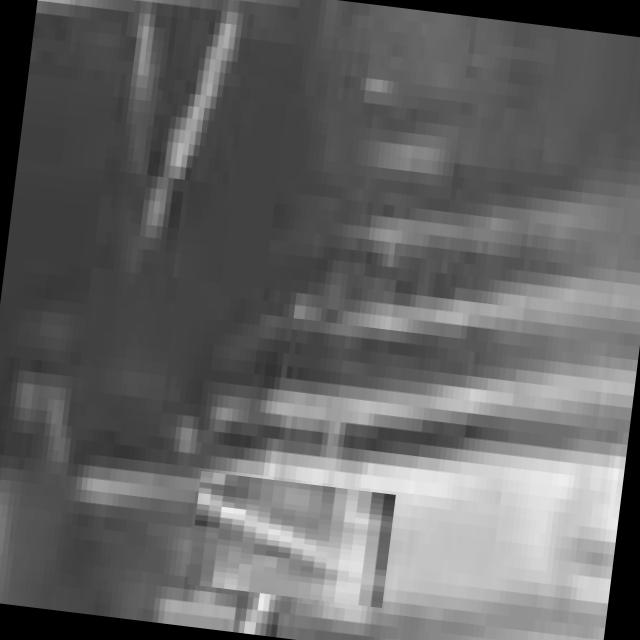stick: (204, 453, 377, 626)
